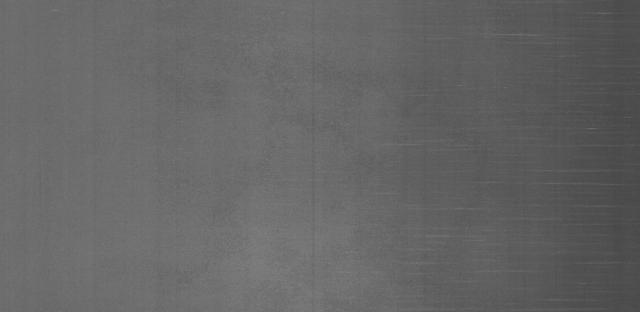waist_folding: (372, 19, 606, 274)
